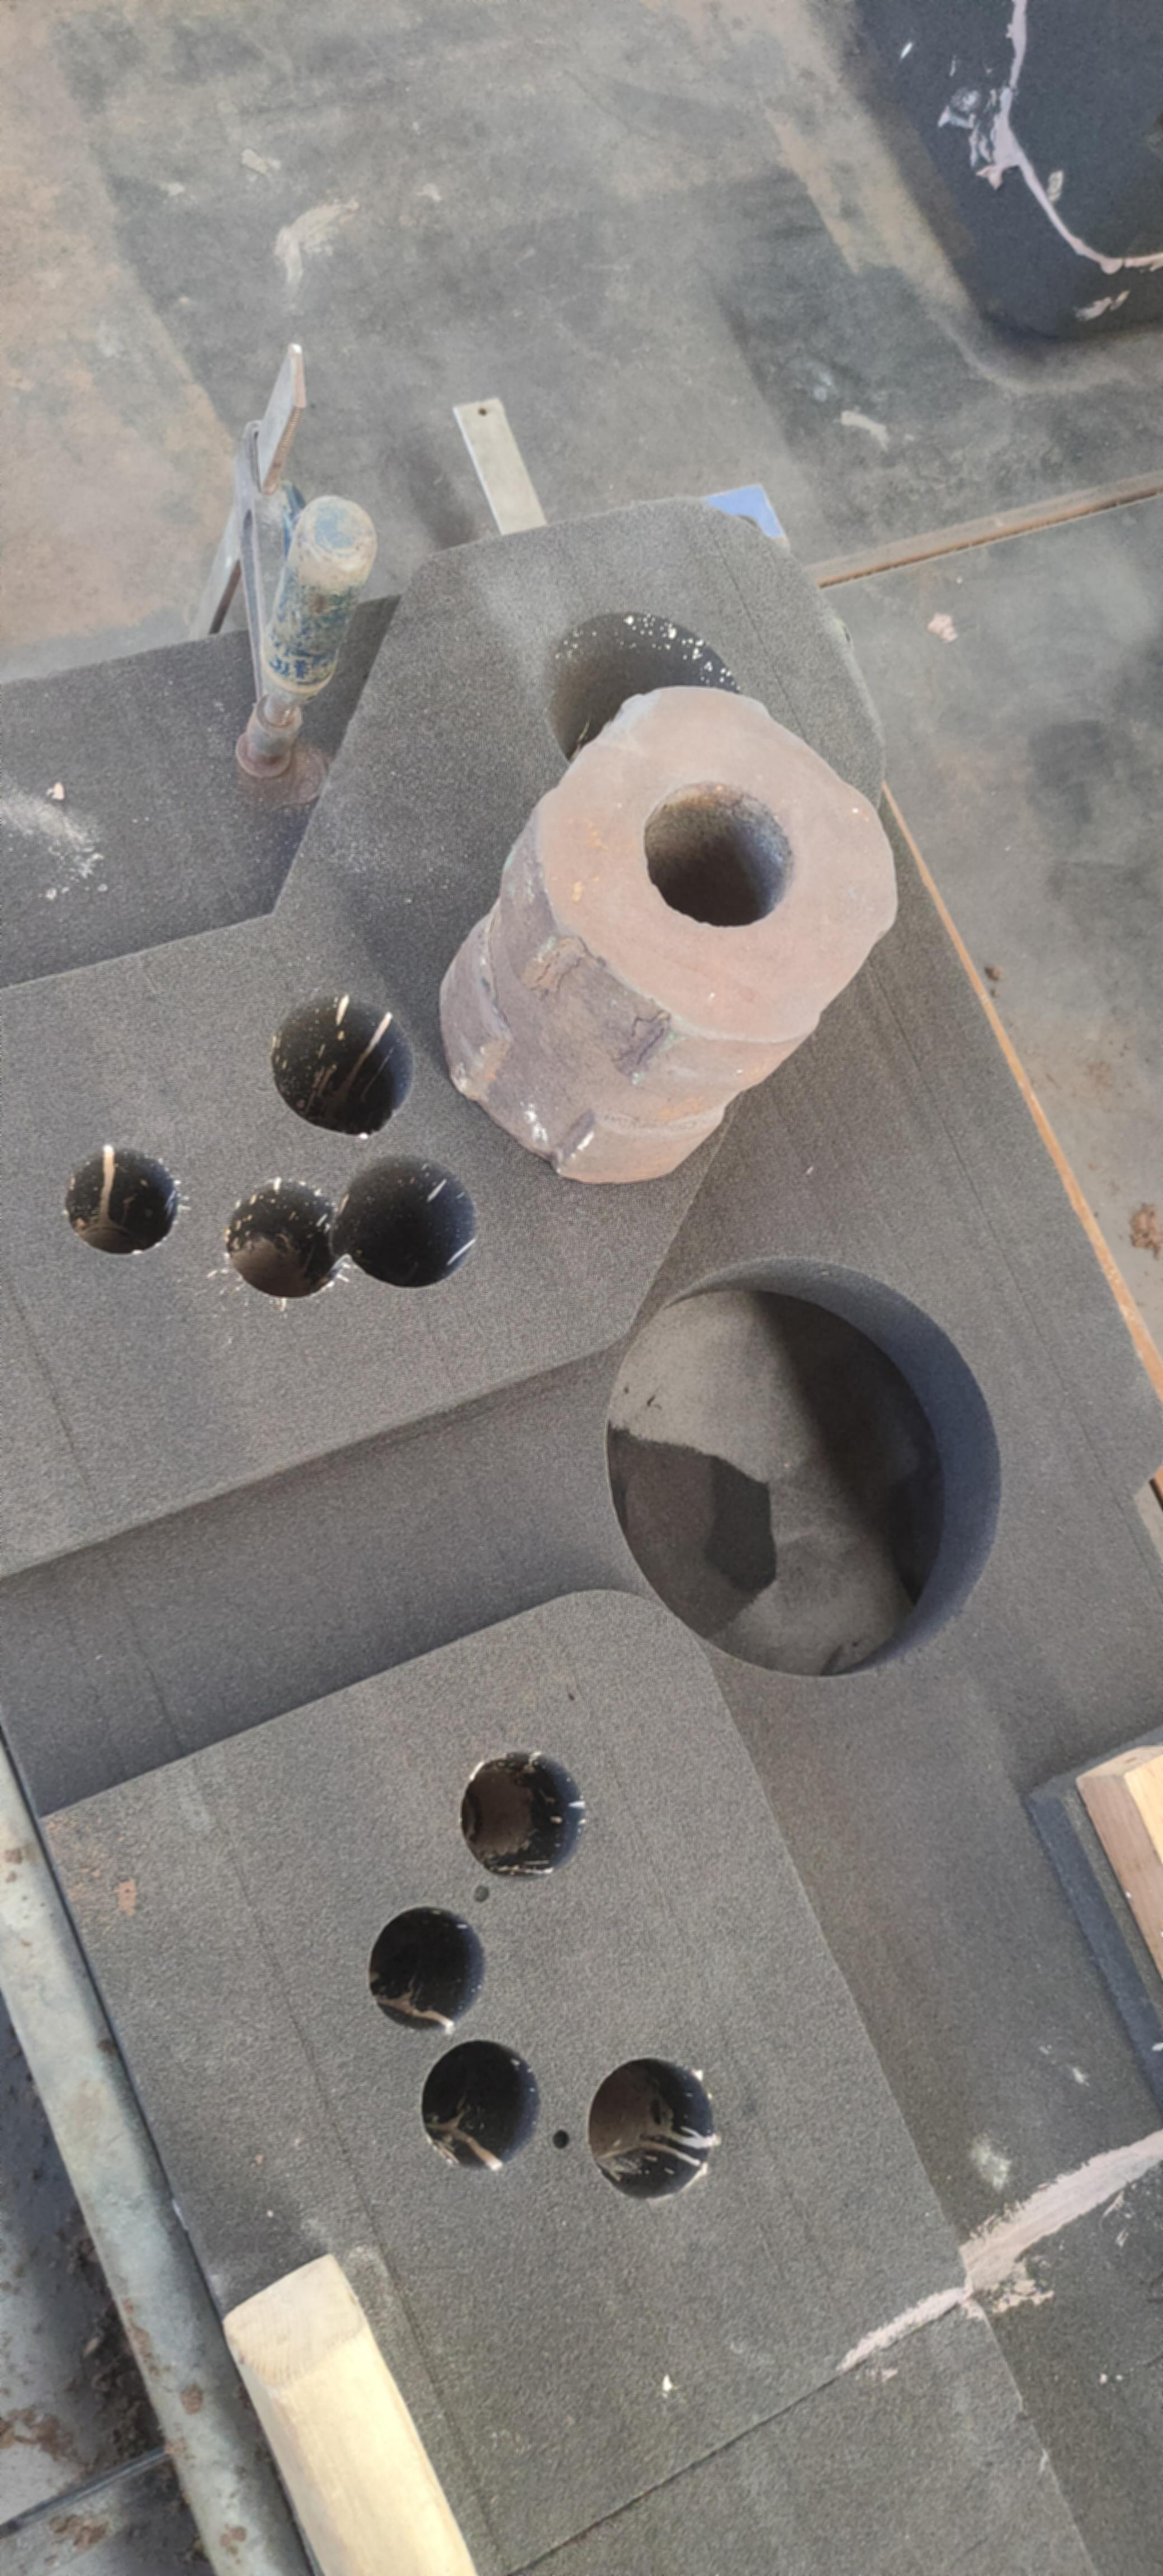pouring hole: (547, 610, 742, 785)
